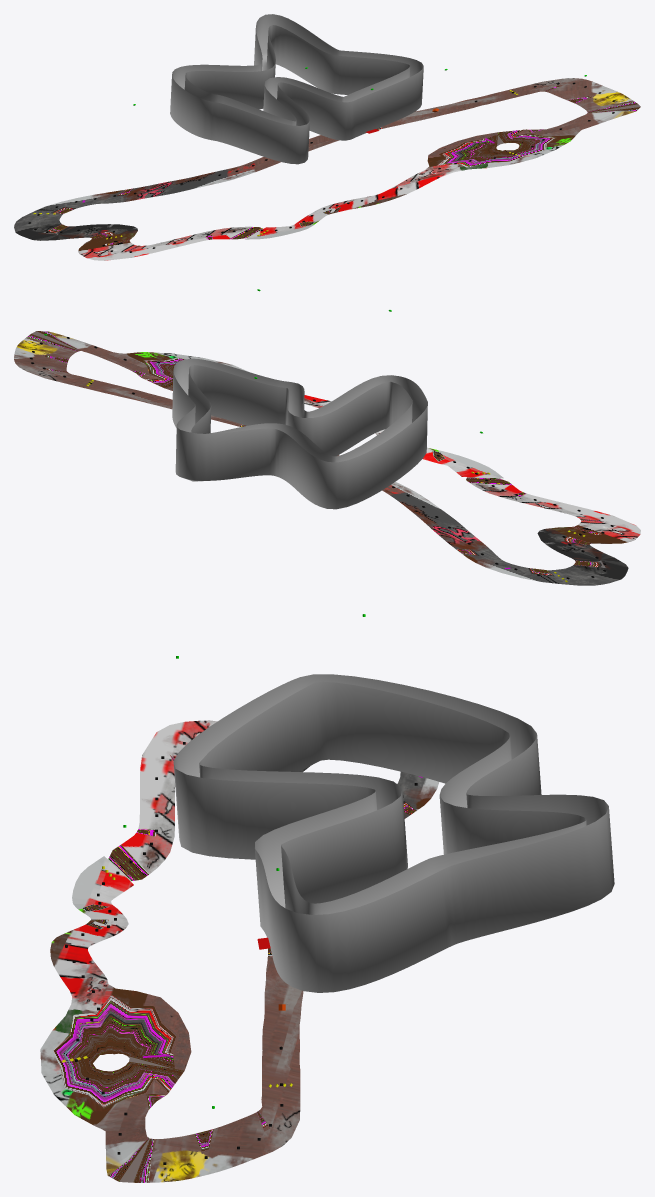
Rendered from circuit.obj.
The picture shows the model from 3 angles, top to bottom: view 1: azimuth 30°, elevation 25°; view 2: azimuth 150°, elevation 25°; view 3: azimuth 270°, elevation 25°; orthographic projection. The views are drawn at different scales.
Visible parts, largest first — view 1: BezierCurve.000_CUBezierCurve.000, T__BezierCurve.003_CUBezierCurve.000; view 2: BezierCurve.000_CUBezierCurve.000, T__BezierCurve.003_CUBezierCurve.000; view 3: BezierCurve.000_CUBezierCurve.000, T__BezierCurve.003_CUBezierCurve.000.
Part boxes in pixels (box(x1,y1,x2,y2)): BezierCurve.000_CUBezierCurve.000: box(170, 14, 423, 164); T__BezierCurve.003_CUBezierCurve.000: box(14, 78, 640, 260); BezierCurve.000_CUBezierCurve.000: box(172, 358, 427, 509); T__BezierCurve.003_CUBezierCurve.000: box(14, 331, 640, 585); BezierCurve.000_CUBezierCurve.000: box(173, 674, 614, 992); T__BezierCurve.003_CUBezierCurve.000: box(40, 720, 439, 1182).
Size of the model in its own units: 4412 by 1040 by 1939.
